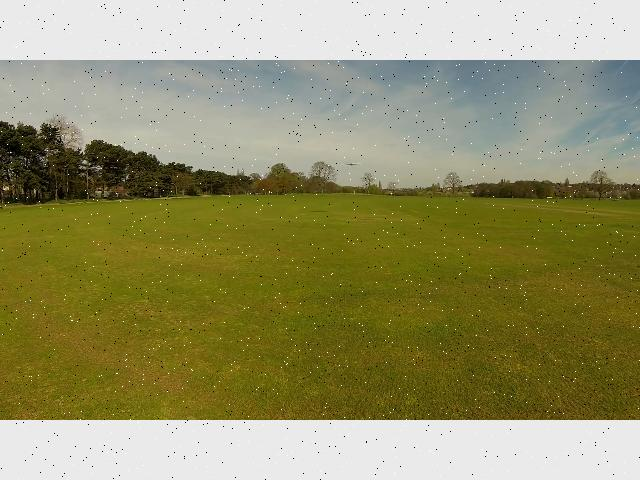Anti-Drone: (340, 158, 368, 170)
